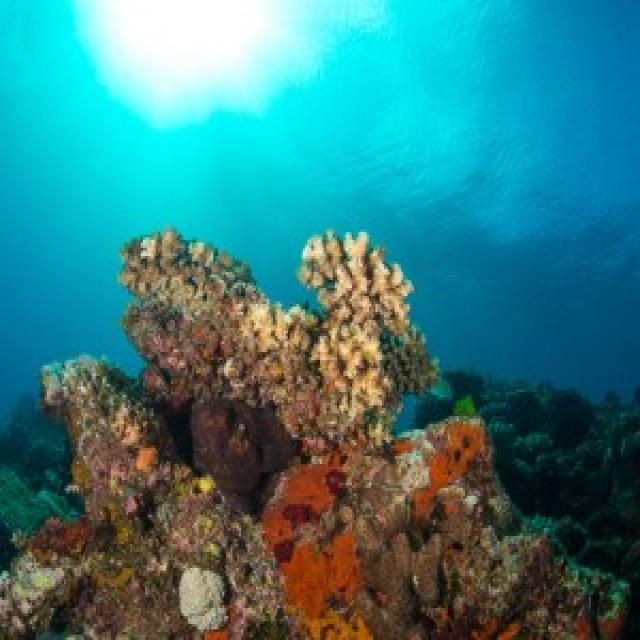Healthy: (1, 230, 622, 638)
